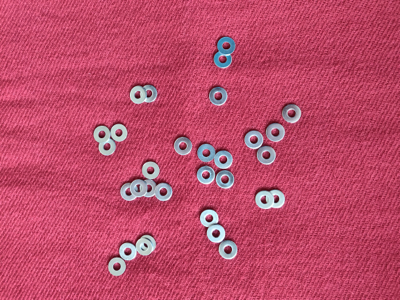circle: (91, 123, 112, 145), (109, 122, 130, 144), (127, 84, 148, 106), (213, 48, 234, 70), (216, 35, 237, 57), (282, 102, 303, 124), (265, 122, 286, 144), (244, 129, 265, 151), (213, 149, 234, 171), (196, 164, 217, 186), (141, 159, 162, 181), (128, 177, 149, 199), (120, 181, 141, 203), (254, 189, 275, 211), (135, 237, 156, 259), (137, 232, 158, 254), (118, 241, 139, 263), (97, 137, 118, 158), (138, 84, 159, 105), (208, 86, 229, 107), (256, 145, 277, 166), (173, 136, 194, 157), (153, 182, 174, 203), (199, 208, 220, 229), (206, 224, 227, 245), (197, 142, 217, 164), (215, 169, 235, 191), (266, 188, 286, 210), (139, 179, 159, 200), (219, 240, 239, 261), (107, 257, 127, 278)
